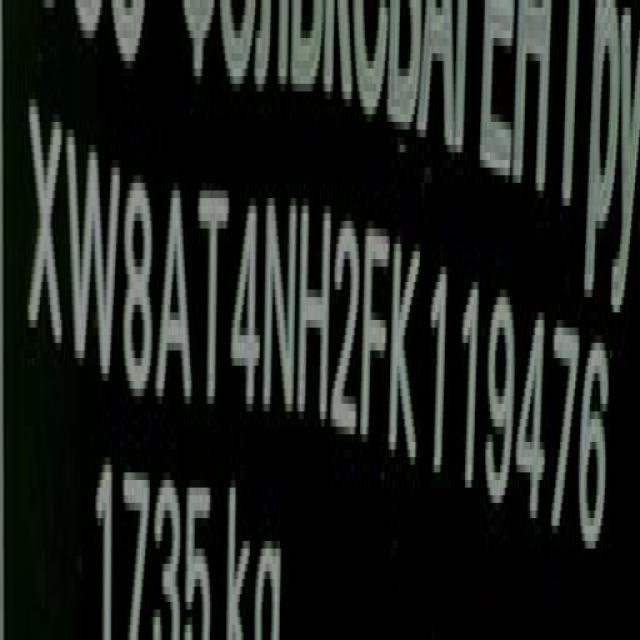1: (427, 256, 448, 492), (461, 280, 481, 502)
2: (333, 211, 363, 447)
4: (516, 308, 548, 534), (232, 186, 261, 419)
6: (582, 337, 611, 557)
7: (550, 321, 580, 547)
8: (124, 171, 156, 405)
9: (485, 289, 515, 513)
A: (157, 172, 190, 415)
F: (358, 220, 388, 469)
H: (296, 192, 331, 428)
K: (384, 244, 422, 485)
N: (263, 186, 299, 425)
T: (198, 180, 232, 431)
W: (68, 124, 122, 391)
X: (29, 103, 64, 371)
